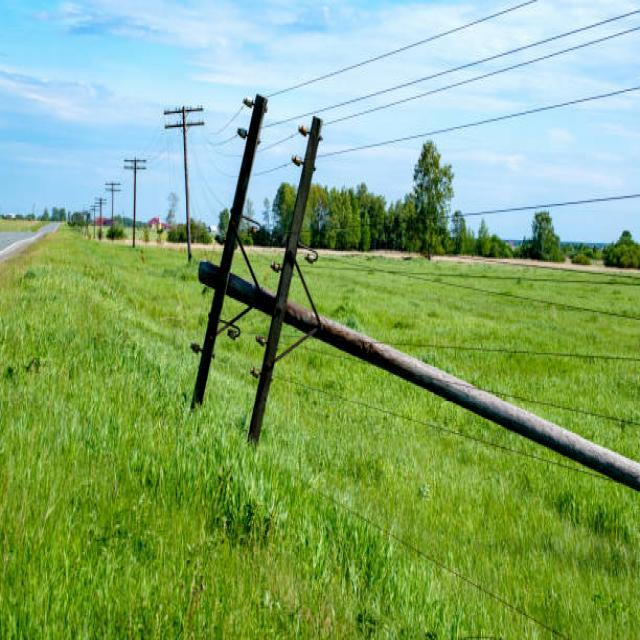Broken Pole: (168, 86, 640, 498)
